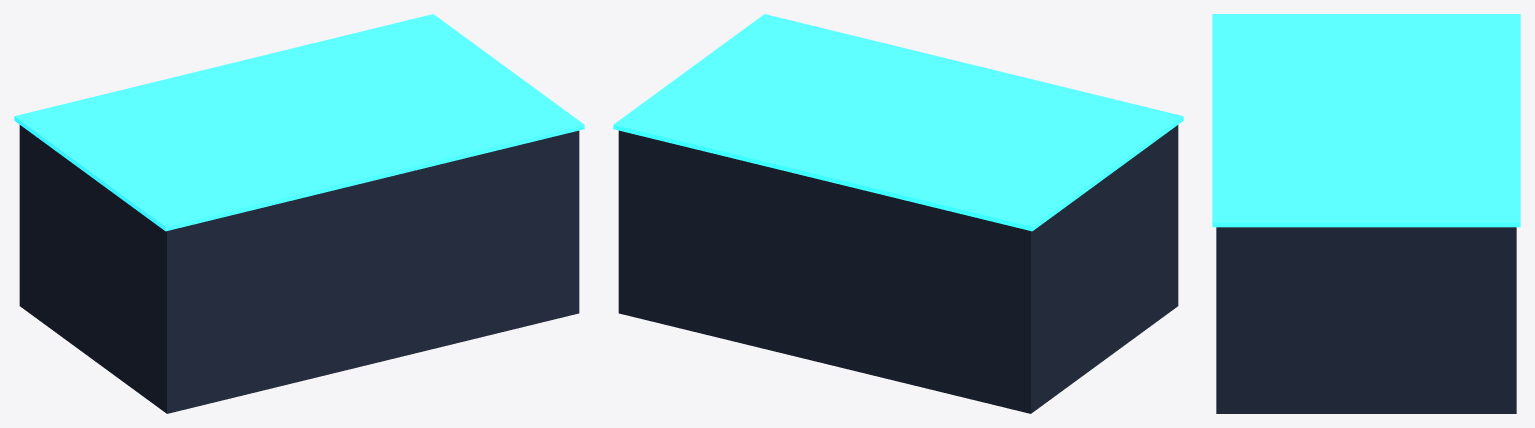
Rendered from dock-warehouse.gltf.
3 renders of one model, left to right at view 1: azimuth 30°, elevation 25°; view 2: azimuth 150°, elevation 25°; view 3: azimuth 270°, elevation 25°, orthographic. The views are drawn at different scales.
Parts seen in each view (by area): view 1: structure, neon-cornice; view 2: structure, neon-cornice; view 3: neon-cornice, structure.
Boxes of the visible parts, left/top/right/bottom form: structure: left=19, top=125, right=579, bottom=413; neon-cornice: left=14, top=14, right=584, bottom=231; structure: left=618, top=125, right=1178, bottom=413; neon-cornice: left=613, top=14, right=1183, bottom=231; neon-cornice: left=1212, top=14, right=1520, bottom=227; structure: left=1216, top=227, right=1516, bottom=413.
Size of the model in its own units: 21.35 by 9.22 by 13.35.
